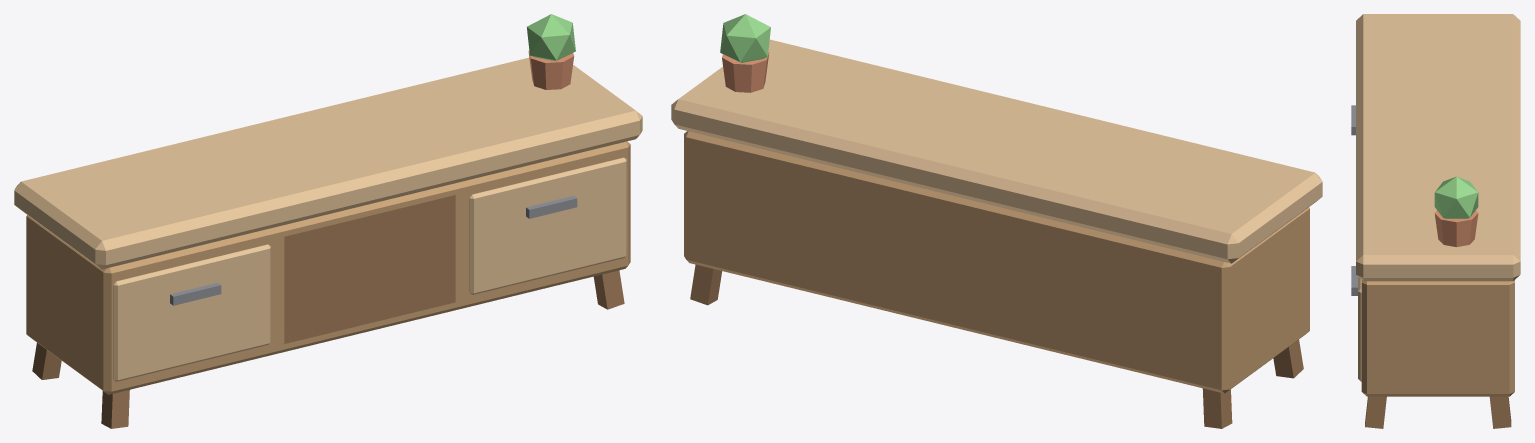
Rendered from prop_tv_stand_01.glb.
3 views of the same model, side by side, from view 1: azimuth 30°, elevation 25°; view 2: azimuth 150°, elevation 25°; view 3: azimuth 270°, elevation 25° (orthographic). The views are drawn at different scales.
Parts seen in each view (by area): view 1: prop_tv_stand_01_body; view 2: prop_tv_stand_01_body; view 3: prop_tv_stand_01_body.
Boxes of the visible parts, <box> form: prop_tv_stand_01_body: <box>14,14,642,428</box>; prop_tv_stand_01_body: <box>671,14,1322,428</box>; prop_tv_stand_01_body: <box>1351,14,1520,428</box>.
Bounding box in the file's own units: 1.6 × 0.7347 × 0.4625.
